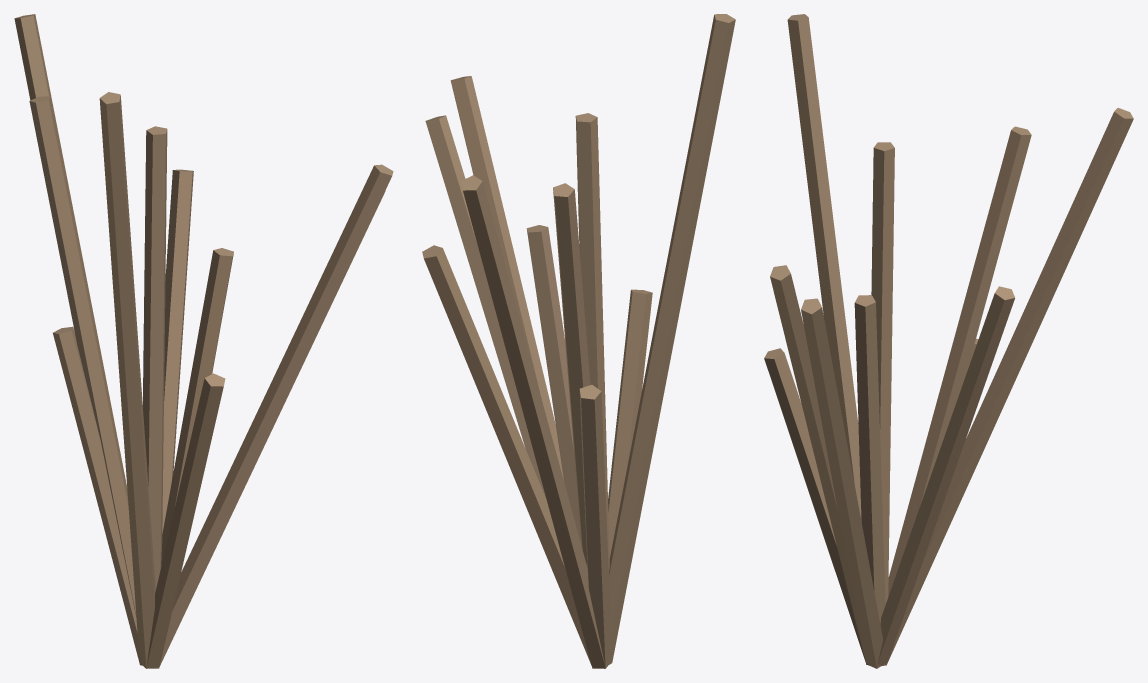
Rendered from veg_scrub_dry_01.glb.
3 renders of one model, left to right at view 1: azimuth 30°, elevation 25°; view 2: azimuth 150°, elevation 25°; view 3: azimuth 270°, elevation 25°, orthographic. The views are drawn at different scales.
Parts seen in each view (by area): view 1: branch_4, branch_2, branch_6, branch_1, branch_3, branch_7, branch_9, branch_8, branch_0; view 2: branch_4, branch_0, branch_7, branch_1, branch_6, branch_9, branch_8, branch_2, branch_5, branch_3; view 3: branch_0, branch_4, branch_6, branch_7, branch_5, branch_1, branch_8, branch_2, branch_3.
Boxes of the visible parts, box(x1,y1,x2,y2) form: branch_4: box(99, 92, 155, 668); branch_2: box(155, 164, 393, 668); branch_6: box(29, 96, 136, 616); branch_1: box(142, 126, 167, 589); branch_3: box(145, 373, 225, 668); branch_7: box(162, 169, 193, 533); branch_9: box(53, 326, 142, 665); branch_8: box(161, 248, 233, 565); branch_0: box(14, 14, 140, 664); branch_4: box(608, 14, 735, 664); branch_0: box(461, 175, 606, 668); branch_7: box(422, 245, 595, 668); branch_1: box(575, 113, 609, 571); branch_6: box(553, 183, 590, 566); branch_9: box(579, 385, 611, 668); branch_8: box(526, 225, 581, 545); branch_2: box(450, 76, 563, 480); branch_5: box(425, 115, 546, 498); branch_3: box(608, 289, 652, 662); branch_0: box(883, 108, 1133, 665); branch_4: box(787, 14, 861, 521); branch_6: box(888, 126, 1031, 596); branch_7: box(877, 286, 1014, 666); branch_5: box(801, 298, 883, 668); branch_1: box(871, 142, 894, 604); branch_8: box(854, 295, 885, 624); branch_2: box(770, 265, 880, 668); branch_3: box(764, 348, 868, 664).
Bounding box in the file's own units: 0.4245 × 0.8649 × 0.4749.
